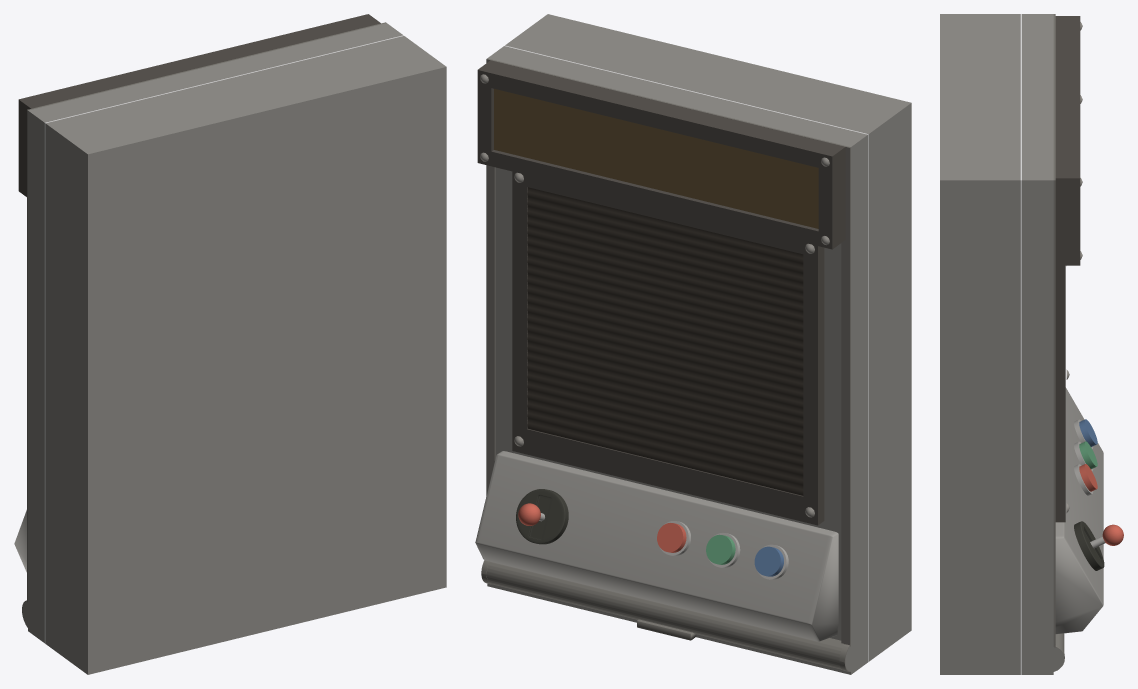
The model's file is ArcadeCabinetDieselpunk.glb.
The picture shows the model from 3 angles, left to right: view 1: azimuth 30°, elevation 25°; view 2: azimuth 150°, elevation 25°; view 3: azimuth 270°, elevation 25°; orthographic projection. The views are drawn at different scales.
Visible parts, largest first — view 1: arcade_main_box, marquee_emissive_frame, arcade_front_frame; view 2: screen, arcade_main_box, control_panel, screen_frame, marquee_emissive, marquee_emissive_frame, arcade_front_frame, base_plinth, Joystick_base_black_plastic, button_3_blue, button_2_green, button_1_red; view 3: arcade_main_box, control_panel, marquee_emissive_frame, screen_frame, arcade_front_frame, Joystick_base_black_plastic, joystick_ball_red, button_1_red, button_2_green, button_3_blue.
Boxes of the visible parts, x1,y1,x2,y2 form: arcade_main_box: (22, 23, 446, 674); marquee_emissive_frame: (18, 14, 380, 196); arcade_front_frame: (27, 22, 386, 602); screen: (527, 187, 803, 495); arcade_main_box: (487, 14, 911, 674); control_panel: (475, 451, 838, 641); screen_frame: (512, 171, 824, 525); marquee_emissive: (494, 89, 818, 228); marquee_emissive_frame: (477, 60, 845, 249); arcade_front_frame: (486, 58, 850, 646); base_plinth: (486, 561, 844, 669); Joystick_base_black_plastic: (516, 489, 568, 544); button_3_blue: (754, 546, 783, 576); button_2_green: (706, 534, 735, 564); button_1_red: (657, 523, 686, 552); arcade_main_box: (940, 14, 1064, 674); control_panel: (1055, 387, 1103, 634); marquee_emissive_frame: (1055, 16, 1080, 265); screen_frame: (1055, 265, 1065, 522); arcade_front_frame: (1053, 14, 1055, 647); Joystick_base_black_plastic: (1074, 521, 1104, 570); joystick_ball_red: (1102, 524, 1123, 545); button_1_red: (1079, 464, 1097, 491); button_2_green: (1079, 441, 1097, 469); button_3_blue: (1079, 419, 1097, 446).
Size of the model in its own units: 3.26 by 4.52 by 1.52.
